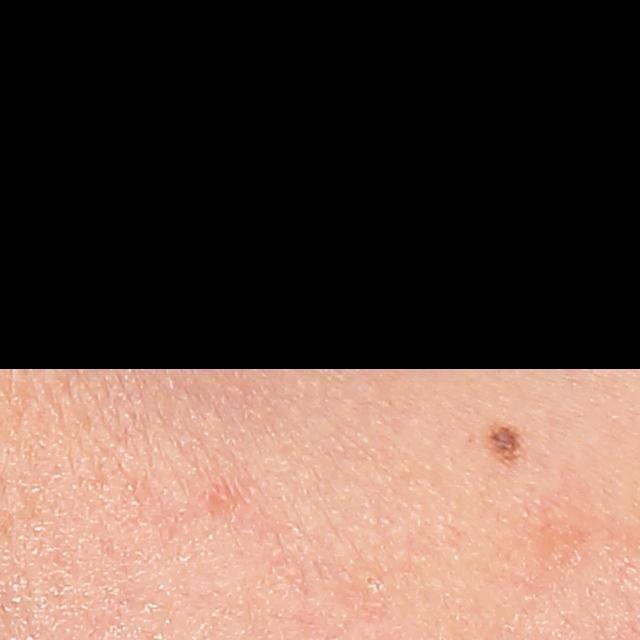nevus: (484, 423, 528, 469)
